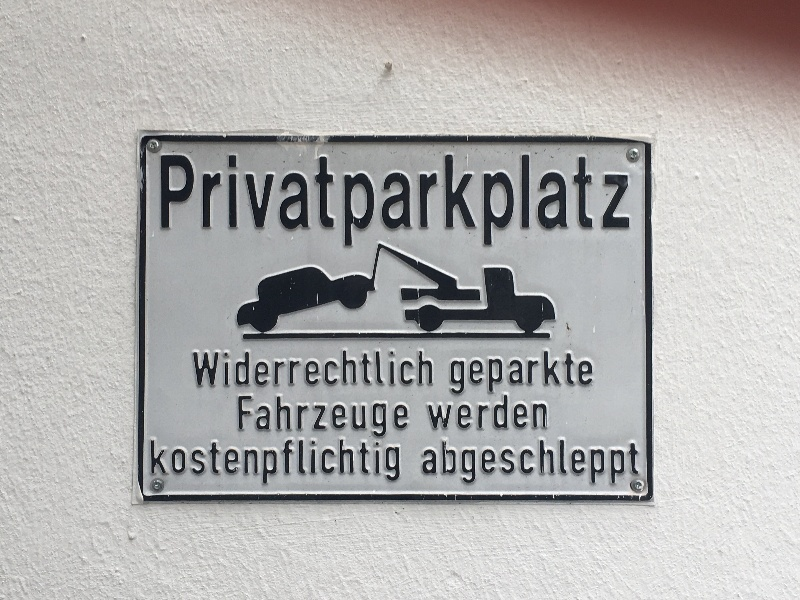text: (161, 155, 176, 249), (177, 155, 192, 249), (193, 155, 208, 249), (209, 155, 224, 249), (225, 155, 240, 249), (241, 155, 256, 249), (257, 155, 272, 249), (273, 155, 288, 249), (289, 155, 304, 249), (305, 155, 320, 249), (321, 155, 336, 249), (337, 155, 352, 249), (353, 155, 368, 249), (369, 155, 384, 249), (385, 155, 400, 249), (401, 155, 416, 249), (417, 155, 432, 249), (433, 155, 448, 249), (449, 155, 464, 249), (465, 155, 480, 249), (481, 155, 496, 249), (497, 155, 512, 249), (513, 155, 528, 249), (529, 155, 544, 249), (545, 155, 560, 249), (561, 155, 576, 249), (577, 155, 592, 249), (593, 155, 608, 249), (609, 155, 624, 249), (449, 347, 464, 395), (465, 347, 480, 395), (481, 347, 496, 395), (497, 347, 512, 395), (513, 347, 528, 395), (529, 347, 544, 395), (545, 347, 560, 395), (561, 347, 576, 395), (577, 347, 592, 395), (433, 439, 448, 486), (449, 439, 464, 486), (465, 439, 480, 486), (481, 439, 496, 486), (497, 439, 512, 486), (513, 439, 528, 486), (529, 439, 544, 486), (545, 439, 560, 486), (561, 439, 576, 486), (577, 439, 592, 486), (593, 439, 608, 486), (609, 439, 624, 486), (625, 439, 640, 486), (161, 439, 176, 485), (177, 439, 192, 485), (193, 439, 208, 485), (209, 439, 224, 485), (225, 439, 240, 485), (241, 439, 256, 485), (257, 439, 272, 485), (273, 439, 288, 485), (289, 439, 304, 485), (305, 439, 320, 485), (321, 439, 336, 485), (337, 439, 352, 485), (353, 439, 368, 485), (369, 439, 384, 485), (385, 439, 400, 485), (241, 395, 256, 439), (257, 395, 272, 439), (273, 395, 288, 439), (289, 395, 304, 439), (305, 395, 320, 439), (321, 395, 336, 439), (337, 395, 352, 439), (353, 395, 368, 439), (369, 395, 384, 439), (385, 395, 400, 439), (417, 350, 433, 386), (193, 350, 208, 386), (209, 350, 224, 386), (225, 350, 240, 386), (241, 350, 256, 386), (257, 350, 272, 386), (273, 350, 288, 386), (289, 350, 304, 386), (305, 350, 320, 386), (321, 350, 336, 386), (337, 350, 352, 386), (353, 350, 368, 386), (369, 350, 384, 386), (385, 350, 400, 386), (401, 350, 416, 386), (433, 394, 448, 429), (449, 394, 464, 429), (465, 394, 480, 429), (481, 394, 496, 429), (497, 394, 512, 429), (513, 394, 528, 429), (529, 394, 544, 429), (625, 155, 630, 249), (423, 439, 432, 486), (151, 439, 160, 485), (401, 395, 408, 439), (425, 394, 432, 429), (237, 395, 240, 439), (545, 394, 547, 429), (593, 347, 594, 395)
